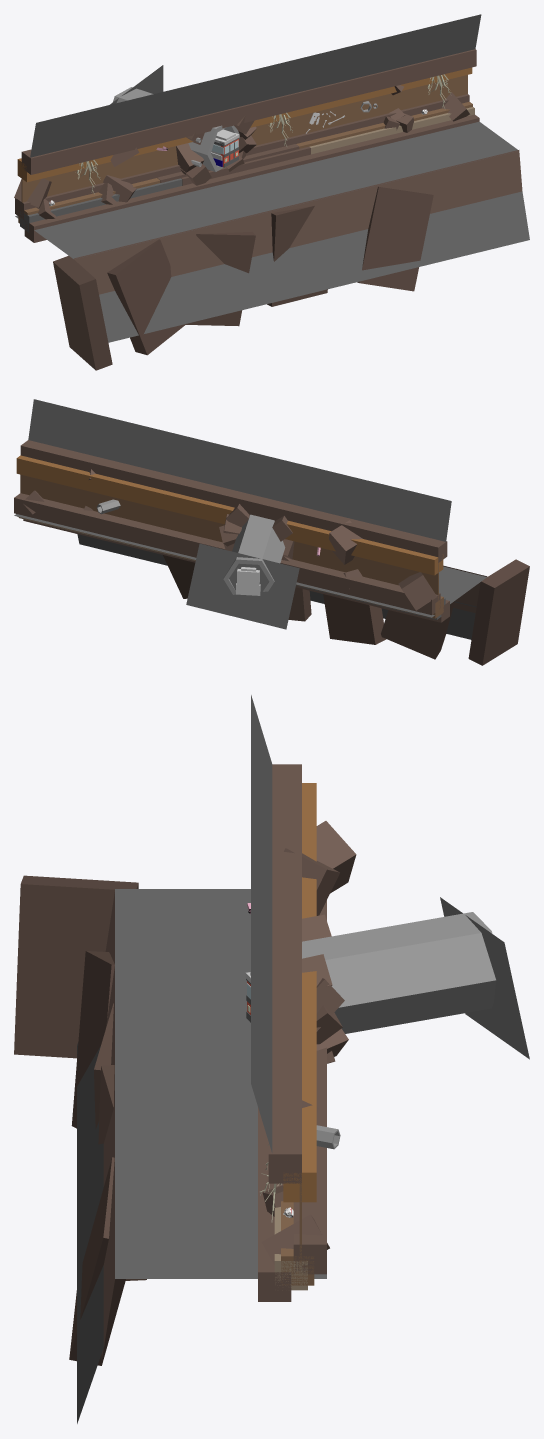
The model's file is undergroundBackground.fbx.
3 renders of one model, top to bottom at view 1: azimuth 30°, elevation 25°; view 2: azimuth 150°, elevation 25°; view 3: azimuth 270°, elevation 25°, orthographic. The views are drawn at different scales.
Parts seen in each view (by area): view 1: polySurface262; view 2: polySurface262; view 3: polySurface262.
Boxes of the visible parts, x1,y1,x2,y2 form: polySurface262: (14, 14, 529, 370); polySurface262: (14, 399, 529, 665); polySurface262: (14, 695, 529, 1423).
Size of the model in its own units: 418 by 184 by 224.
